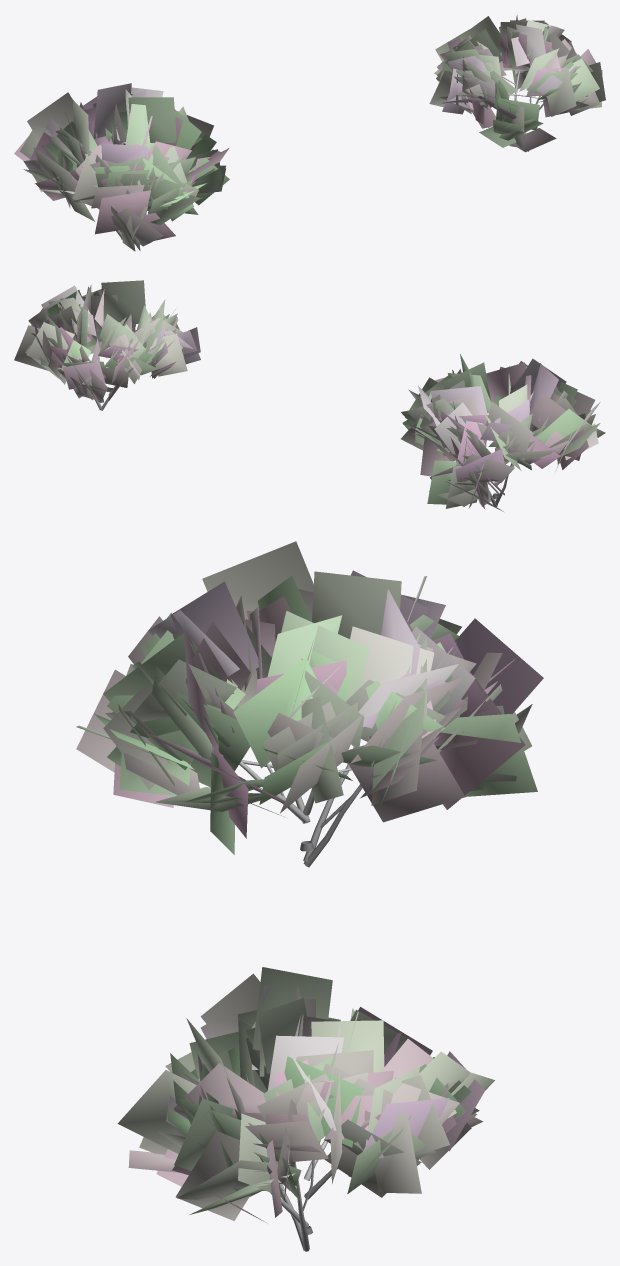
File: Lantana.fbx
3 views of the same model, one above another, from view 1: azimuth 30°, elevation 25°; view 2: azimuth 150°, elevation 25°; view 3: azimuth 270°, elevation 25° (orthographic). The views are drawn at different scales.
Parts seen in each view (by area): view 1: Lantana_A_LOD0, Lantana_B_LOD0; view 2: Lantana_A_LOD0, Lantana_B_LOD0; view 3: Lantana_A_LOD0, Lantana_B_LOD0.
Part boxes in pixels (<box>): Lantana_A_LOD0: <box>14,83,229,251</box>; Lantana_B_LOD0: <box>429,15,605,152</box>; Lantana_A_LOD0: <box>401,354,605,511</box>; Lantana_B_LOD0: <box>14,280,200,410</box>; Lantana_A_LOD0: <box>76,541,543,867</box>; Lantana_B_LOD0: <box>117,967,494,1251</box>.
Size of what is drawn, in the model's own units: 8.92 by 2.08 by 3.19.
